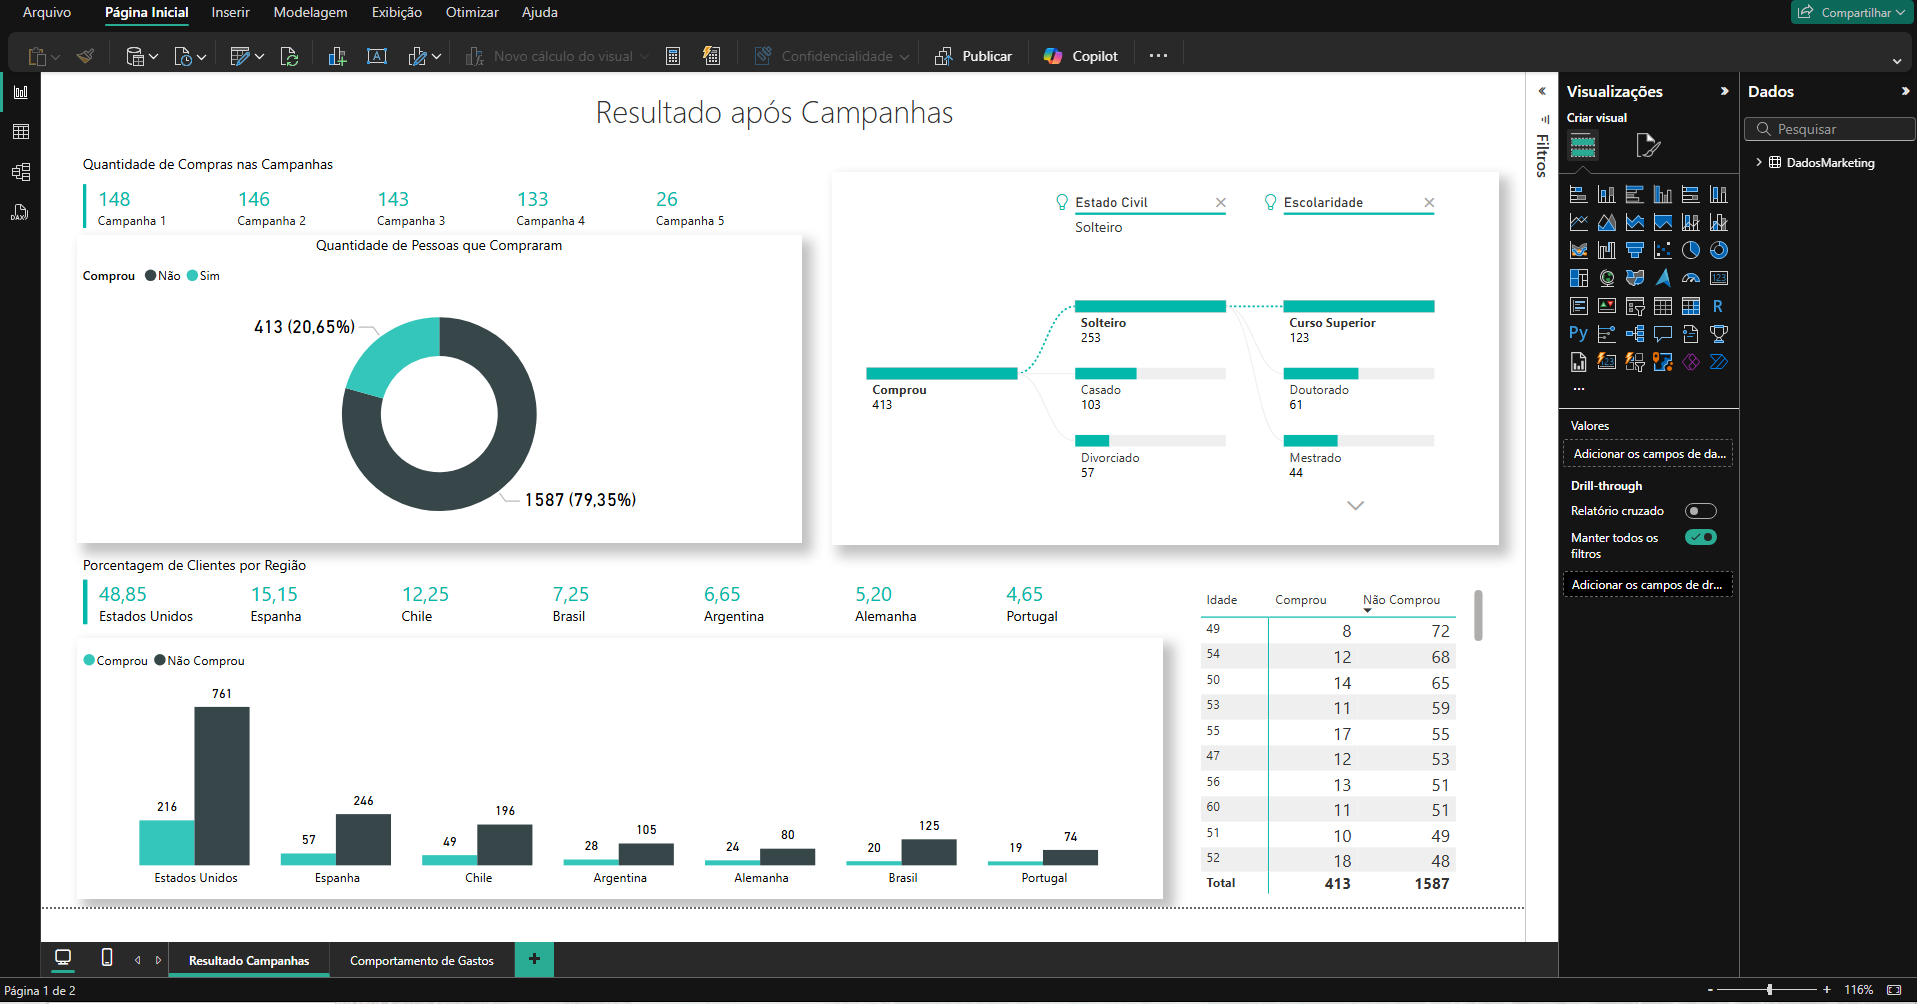

What the dashboard file says about the page in this screenshot:
{"tool":"powerbi","page":{"name":"Resultado Campanhas ","canvas":[1280,720],"ordinal":0},"visuals":[{"type":"textbox","box":[415.6,10.4,433.6,52.2],"z":0},{"type":"donutChart","title":"Quantidade de Pessoas que Compraram","fields":{"Category":["DadosMarketing.Comprou"],"Y":["CountNonNull(DadosMarketing.Comprou)"]},"box":[30.9,140.3,624.8,266.5],"z":1000},{"type":"lineClusteredColumnComboChart","fields":{"Category":["DadosMarketing.Pais"],"Y":["DadosMarketing.Sim","DadosMarketing.Não"]},"box":[30.9,488.1,936.9,225.3],"z":2000},{"type":"multiRowCard","title":"Porcentagem de Clientes por Região","fields":{"Values":["DadosMarketing.USA","DadosMarketing.Espanha","DadosMarketing.Chile","DadosMarketing.Brasil","DadosMarketing.Argentina","DadosMarketing.Alemanha","DadosMarketing.Portugal"]},"box":[30.9,417,936.9,71.1],"z":3000},{"type":"pivotTable","fields":{"Rows":["DadosMarketing.Idade"],"Values":["DadosMarketing.Sim","DadosMarketing.Não"]},"box":[995.8,440.4,254.3,273],"z":4000},{"type":"decompositionTreeVisual","fields":{"ExplainBy":["DadosMarketing.Estado Civil","DadosMarketing.Escolaridade"],"Analyze":["DadosMarketing.Sim"]},"box":[682.4,86,575.5,321.6],"z":5000},{"type":"multiRowCard","title":"Quantidade de Compras nas Campanhas","fields":{"Values":["Sum(DadosMarketing.Compra na Campanha 1)","Sum(DadosMarketing.Compra na Campanha 2)","Sum(DadosMarketing.Compra na Campanha 3)","Sum(DadosMarketing.Compra na Campanha 4)","Sum(DadosMarketing.Compra na Campanha 5)"]},"box":[30.9,71,624.8,70.2],"z":7000}]}

Visuals, with their boxes on the page's 1280x720 design canvas (x1, y1, x2, y2). These are canvas units, not pixel positions in the 1917x1004 screenshot, which may show the page scaled, cropped or inside an application window:
textbox: (left=416, top=10, right=849, bottom=63)
"Quantidade de Pessoas que Compraram" donutChart: (left=31, top=140, right=656, bottom=407)
lineClusteredColumnComboChart - DadosMarketing.Pais x DadosMarketing.Sim: (left=31, top=488, right=968, bottom=713)
"Porcentagem de Clientes por Região" multiRowCard: (left=31, top=417, right=968, bottom=488)
pivotTable - DadosMarketing.Idade x DadosMarketing.Sim: (left=996, top=440, right=1250, bottom=713)
decompositionTreeVisual - DadosMarketing.Estado Civil x DadosMarketing.Escolaridade: (left=682, top=86, right=1258, bottom=408)
"Quantidade de Compras nas Campanhas" multiRowCard: (left=31, top=71, right=656, bottom=141)
